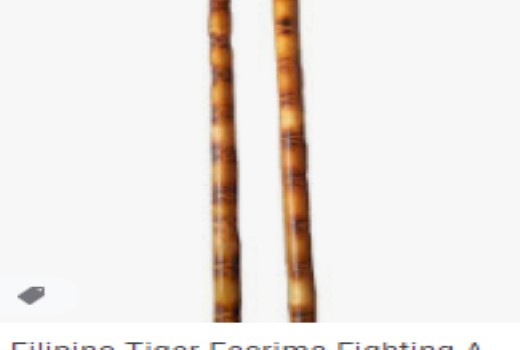baston_e: (263, 6, 322, 314), (196, 9, 249, 301)
